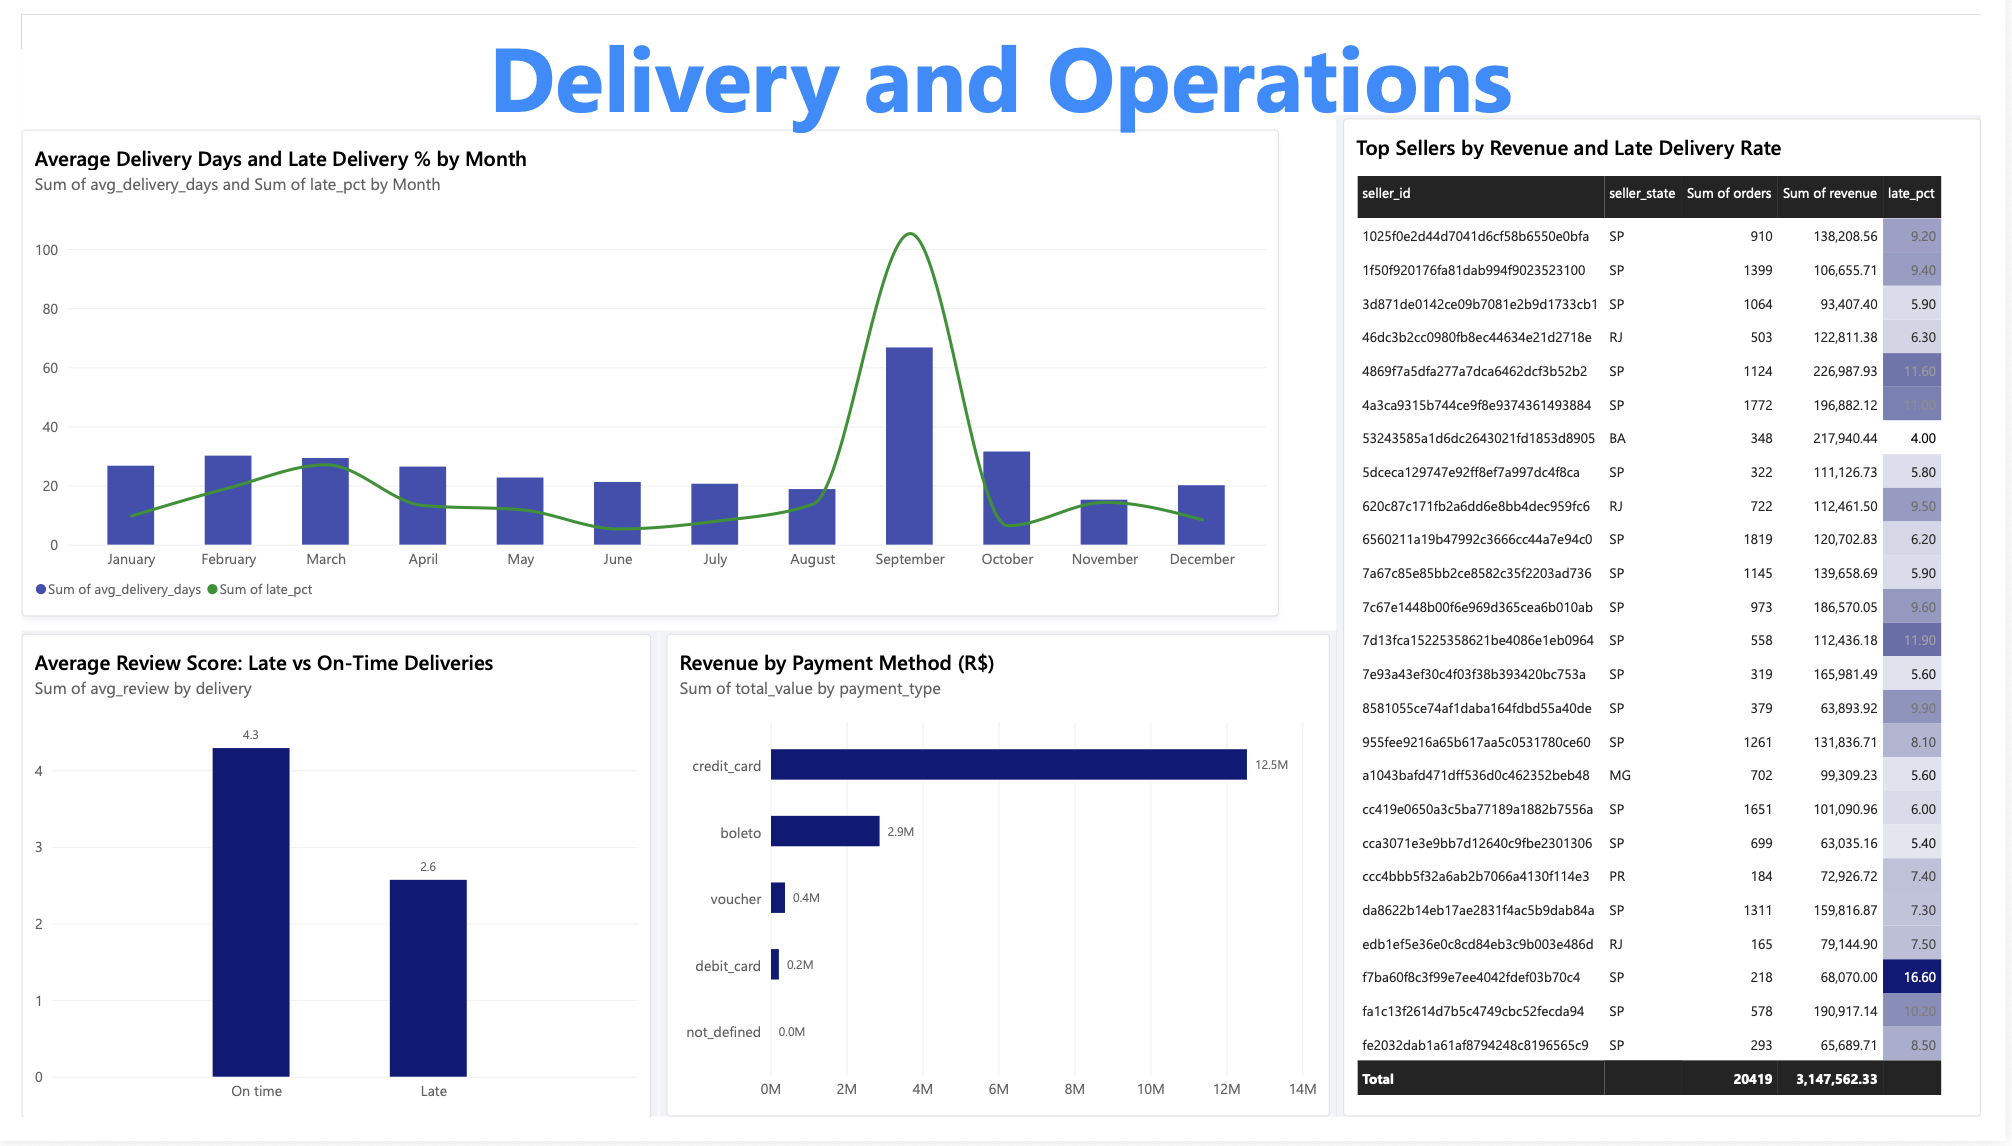

What the dashboard file says about the page in this screenshot:
{"tool":"powerbi","page":{"name":"Delivery and operations","canvas":[1920,1080],"ordinal":2},"visuals":[{"type":"lineClusteredColumnComboChart","title":"Average Delivery Days and Late Delivery % by Month","fields":{"Category":["q09.month.Variation.Date Hierarchy.Month"],"Y":["Sum(q09.avg_delivery_days)"],"Y2":["Sum(q09.late_pct)"]},"box":[0,113.3,1231.7,476.7],"z":0},{"type":"clusteredColumnChart","title":"Average Review Score: Late vs On-Time Deliveries","fields":{"Category":["q10.delivery"],"Y":["Sum(q10.avg_review)"]},"box":[0,606.7,616.7,475],"z":1000},{"type":"tableEx","title":"Top Sellers by Revenue and Late Delivery Rate","fields":{"Values":["q11.seller_id","q11.seller_state","Sum(q11.orders)","Sum(q11.revenue)","Sum(q11.late_pct)"]},"box":[1295,101.7,625,978.3],"z":2000},{"type":"clusteredBarChart","title":"Revenue by Payment Method (R$)","fields":{"Category":["q12.payment_type"],"Y":["Sum(q12.total_value)"]},"box":[631.7,606.7,650,473.3],"z":3000},{"type":"textbox","box":[0,0,1920,148],"z":4000}]}

Visuals, with their boxes in screenshot pixels (x1, y1, x2, y2), scaled from the page's 1920x1080 canvas onto the 2012x1146 screenshot:
"Average Delivery Days and Late Delivery % by Month" lineClusteredColumnComboChart: select_region(0, 120, 1291, 626)
"Average Review Score: Late vs On-Time Deliveries" clusteredColumnChart: select_region(0, 644, 646, 1145)
"Top Sellers by Revenue and Late Delivery Rate" tableEx: select_region(1357, 108, 2011, 1145)
"Revenue by Payment Method (R$)" clusteredBarChart: select_region(662, 644, 1343, 1145)
textbox: select_region(0, 0, 2011, 157)
